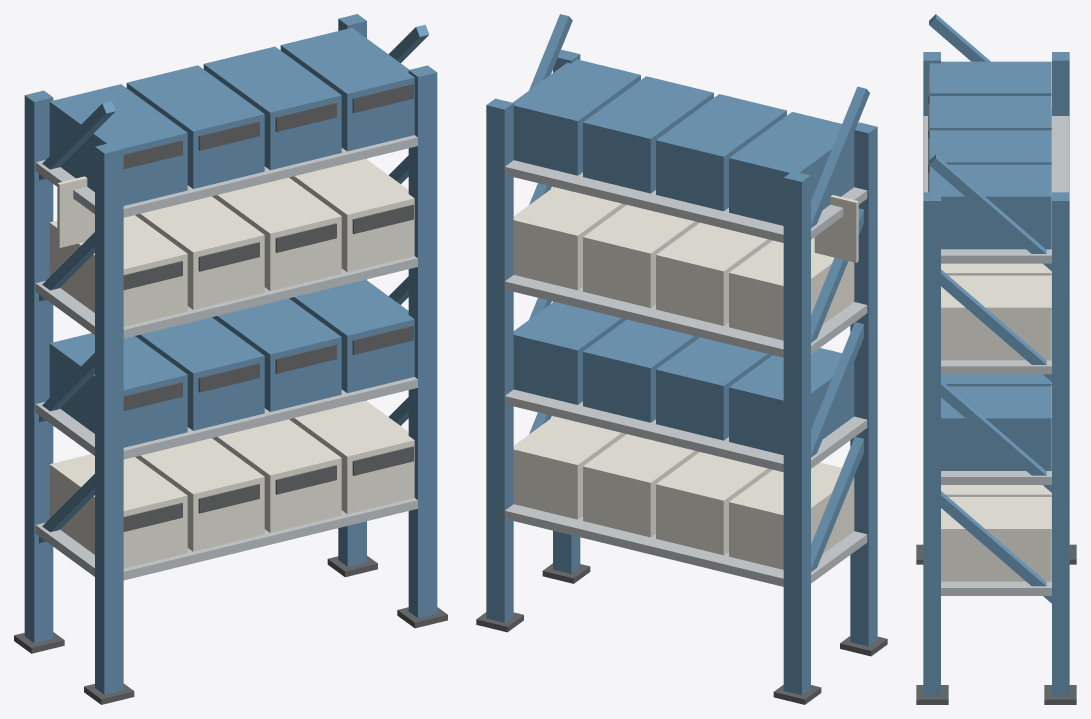
The model's file is parts-bin-shelving-with-plastic-bins.glb.
The picture shows the model from 3 angles, left to right: view 1: azimuth 30°, elevation 25°; view 2: azimuth 150°, elevation 25°; view 3: azimuth 270°, elevation 25°; orthographic projection. The views are drawn at different scales.
Visible parts, largest first — view 1: machine-shop-and-factory-hall-parts-bin-shelving; view 2: machine-shop-and-factory-hall-parts-bin-shelving; view 3: machine-shop-and-factory-hall-parts-bin-shelving.
Boxes of the visible parts, bbox=[...] form: machine-shop-and-factory-hall-parts-bin-shelving: bbox=[14, 14, 447, 704]; machine-shop-and-factory-hall-parts-bin-shelving: bbox=[476, 14, 887, 704]; machine-shop-and-factory-hall-parts-bin-shelving: bbox=[916, 14, 1076, 704].
Bounding box in the file's own units: 1.28 × 2.05 × 0.55.
